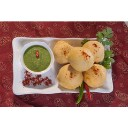bonda: (70, 46, 94, 71), (58, 67, 82, 88), (87, 65, 108, 88), (84, 39, 105, 61), (54, 39, 72, 62)
